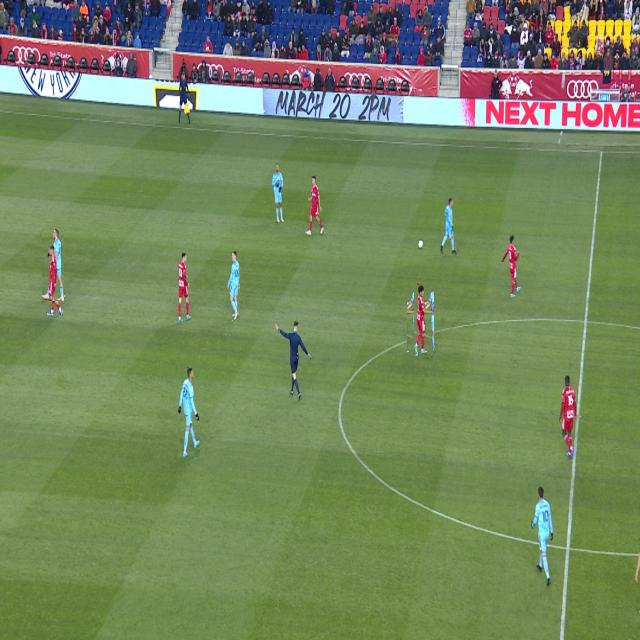football: (418, 240, 423, 249)
player: (531, 487, 553, 586), (178, 368, 200, 457), (43, 230, 64, 301), (560, 377, 577, 458), (415, 285, 434, 354), (407, 283, 424, 356), (501, 235, 521, 297), (47, 246, 63, 317), (306, 177, 324, 235), (178, 254, 191, 323), (441, 198, 457, 254), (227, 252, 240, 320), (272, 164, 284, 222), (635, 551, 640, 582)
referee: (275, 321, 312, 400)
